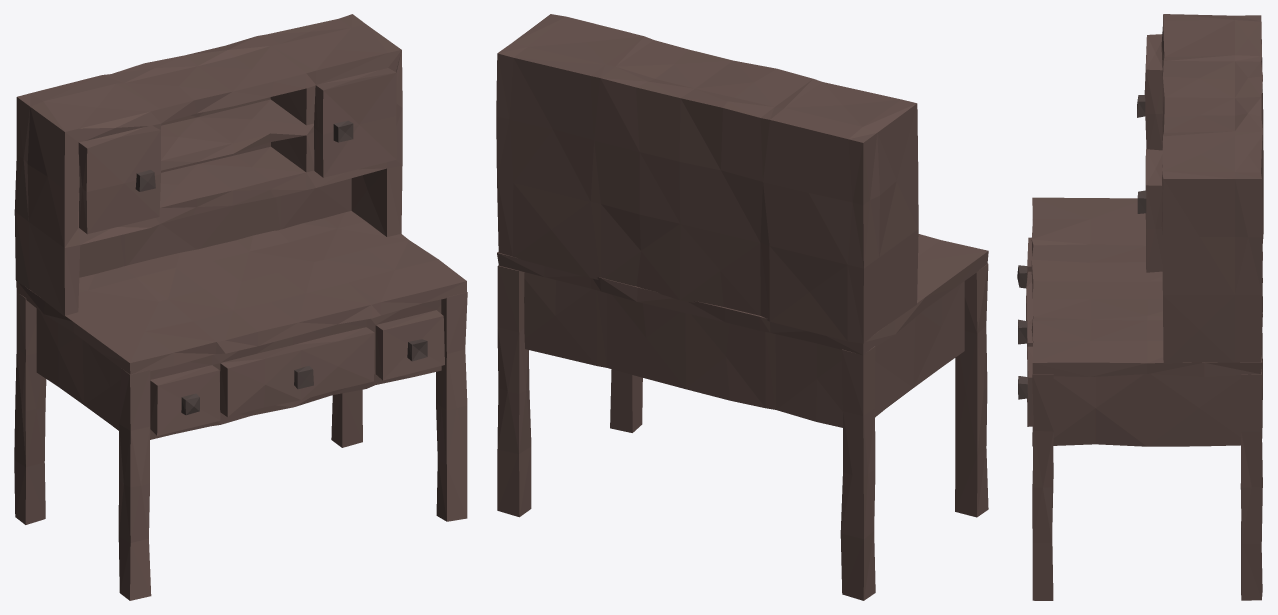
The model's file is bedroom_desk.fbx.
3 views of the same model, side by side, from view 1: azimuth 30°, elevation 25°; view 2: azimuth 150°, elevation 25°; view 3: azimuth 270°, elevation 25° (orthographic). The views are drawn at different scales.
Parts seen in each view (by area): view 1: bedroom_desk; view 2: bedroom_desk; view 3: bedroom_desk.
Part boxes in pixels (x1,y1,x2,y2): bedroom_desk: [14, 14, 467, 600]; bedroom_desk: [496, 14, 988, 600]; bedroom_desk: [1017, 14, 1263, 600].
Size of the model in its own units: 93.13 by 111 by 58.47.
